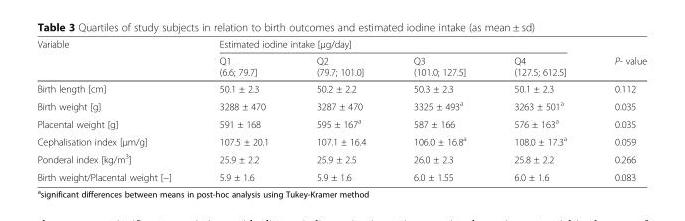table: (36, 37, 646, 182)
table column: (36, 37, 194, 182), (489, 37, 590, 182), (389, 37, 489, 182), (194, 37, 292, 182), (292, 37, 389, 182), (590, 37, 646, 182)
table column header: (36, 37, 646, 80)
table row: (36, 52, 646, 80), (36, 96, 646, 114), (36, 131, 646, 149), (36, 149, 646, 167), (36, 114, 646, 131), (36, 80, 646, 96), (36, 37, 646, 52), (36, 167, 646, 182)
table spanning cell: (36, 37, 194, 80), (194, 37, 590, 52), (590, 37, 646, 80)
